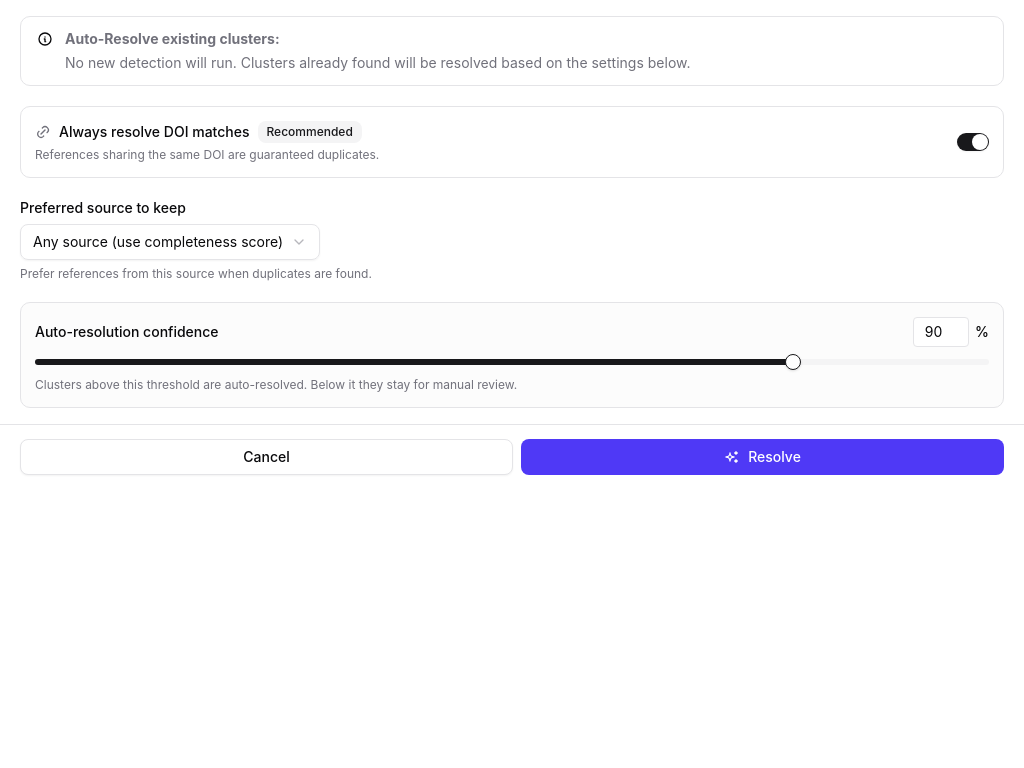
Test case: Components - AutoResolverForm › should show a warning alert when confidence threshold is below 87%
Step 1. Replace the text in the number field with "80" → (941, 332), box x1=913 y1=317 x2=969 y2=347
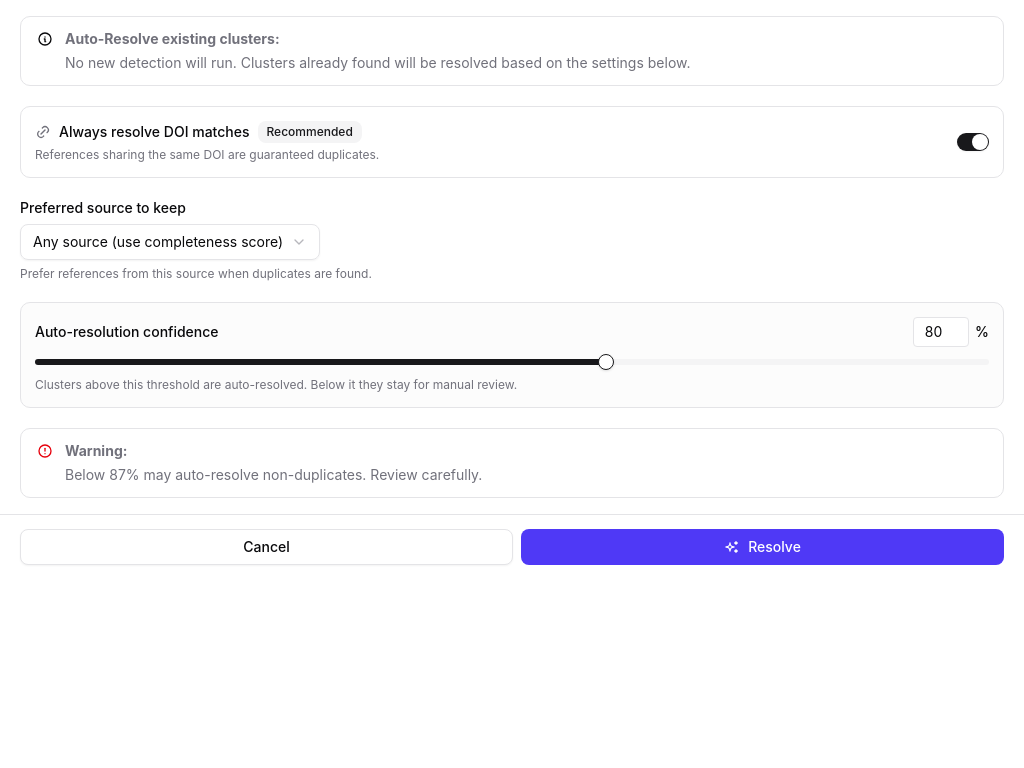
expect the text "Below 87% may auto-resolve" is shown: met, box x1=65 y1=466 x2=482 y2=483
